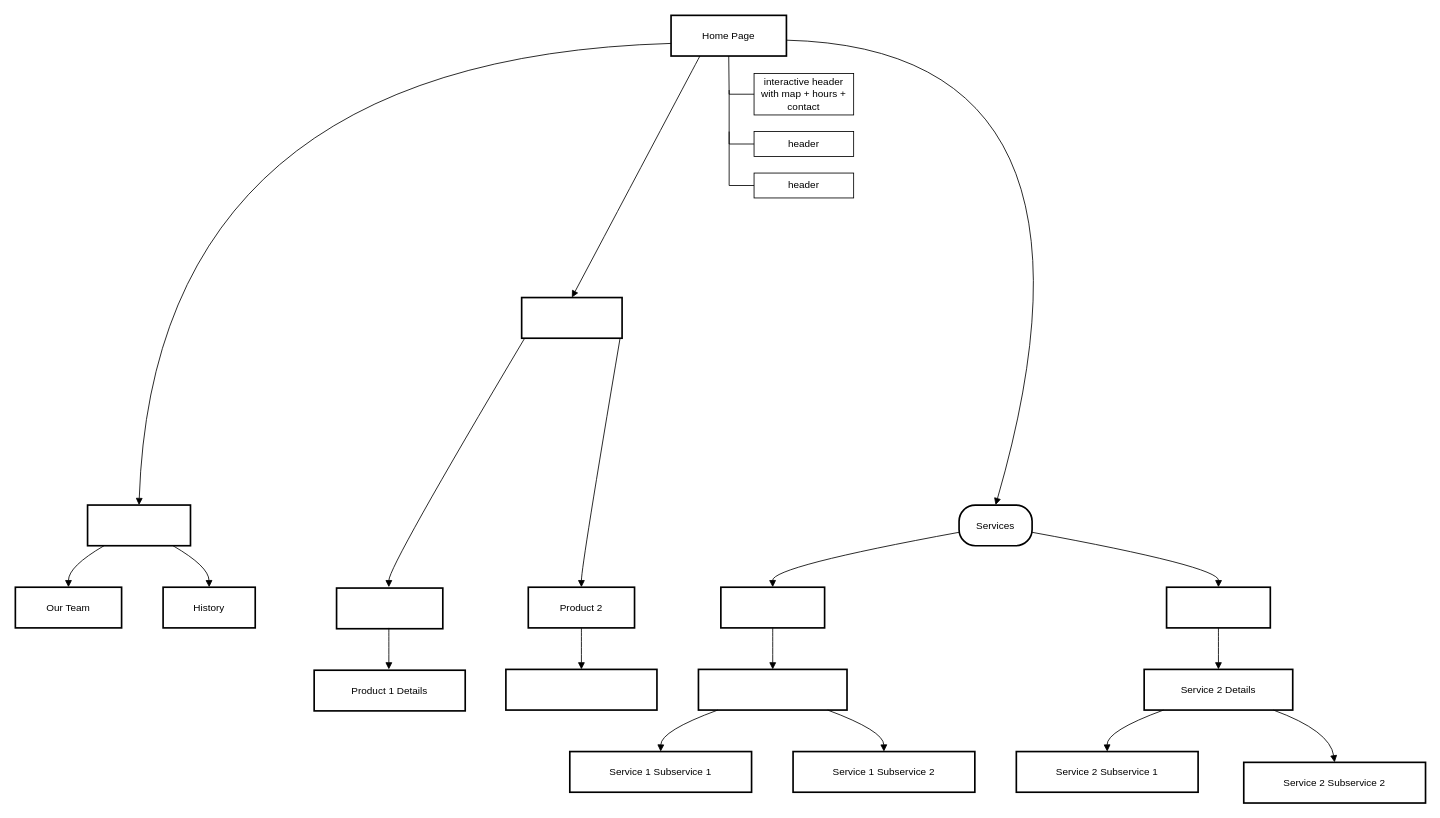
The diagram is 1440 pixels wide and 818 high, and some of its shapes have lost their labels. The centre of each missing label's shape, as x and y in pixels:
"About Us" belongs at point (138, 525).
"Product 1" belongs at point (389, 608).
"Product 2 Details" belongs at point (581, 689).
"Products" belongs at point (571, 317).
"Service 1" belongs at point (772, 607).
"Service 1 Details" belongs at point (772, 689).
"Service 2" belongs at point (1218, 607).
